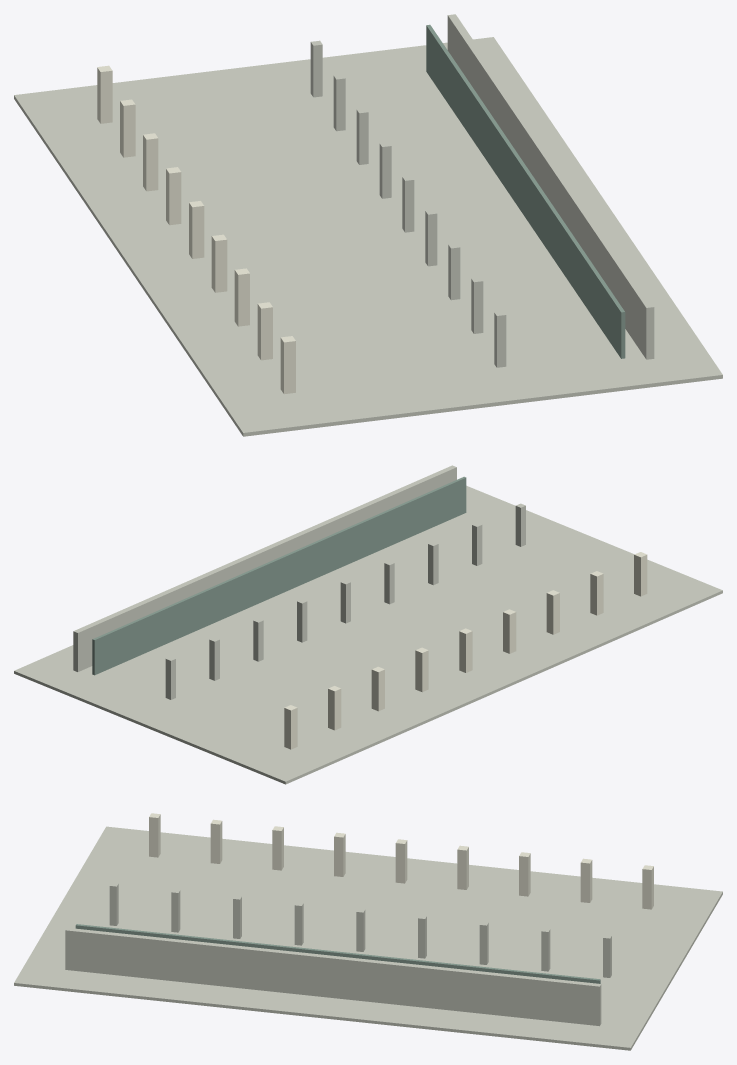
The model's file is Hall_Basement.glb.
The picture shows the model from 3 angles, top to bottom: view 1: azimuth 30°, elevation 25°; view 2: azimuth 150°, elevation 25°; view 3: azimuth 270°, elevation 25°; orthographic projection. The views are drawn at different scales.
Visible parts, largest first — view 1: Hall_Basement; view 2: Hall_Basement; view 3: Hall_Basement.
Boxes of the visible parts, bbox=[...] form: Hall_Basement: bbox=[14, 14, 722, 436]; Hall_Basement: bbox=[14, 465, 722, 784]; Hall_Basement: bbox=[14, 813, 722, 1050].
Bounding box in the file's own units: 49.45 × 4.42 × 66.93.
